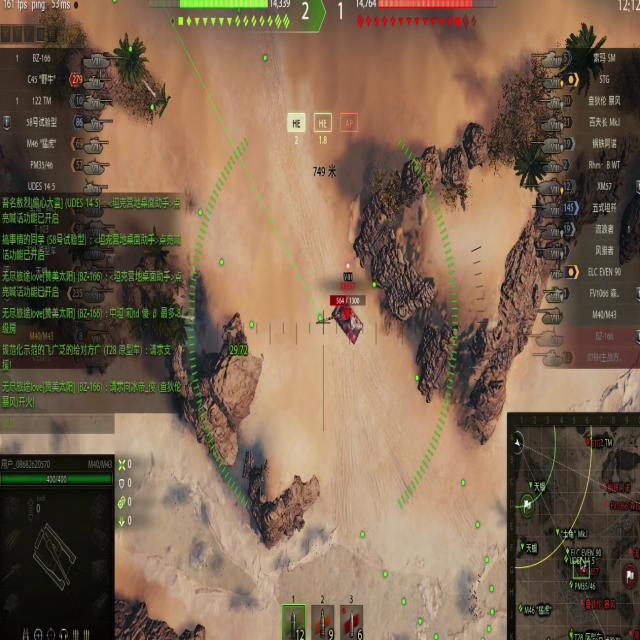tank: (325, 291, 368, 344)
